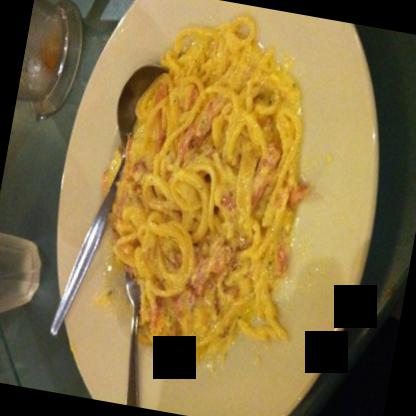pasta: (78, 19, 333, 364)
